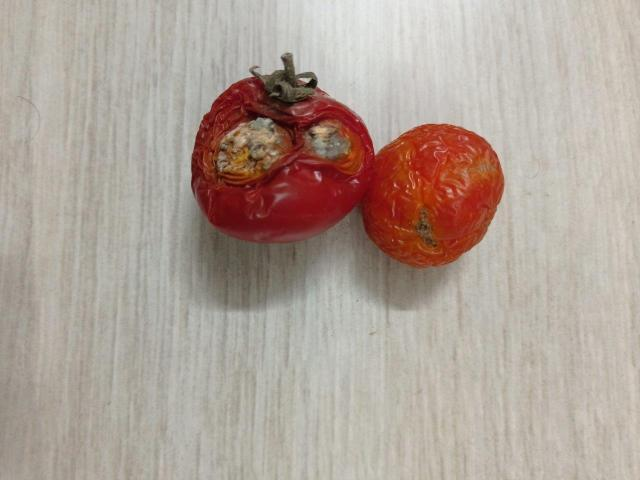defect: (190, 51, 375, 245), (366, 120, 508, 270)
